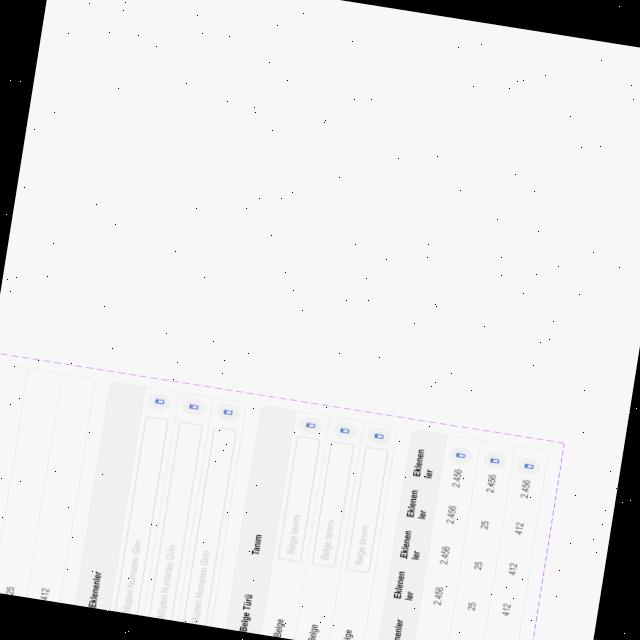VDataTable: (72, 380, 250, 628), (221, 402, 399, 640), (373, 427, 551, 640), (0, 360, 98, 603)
